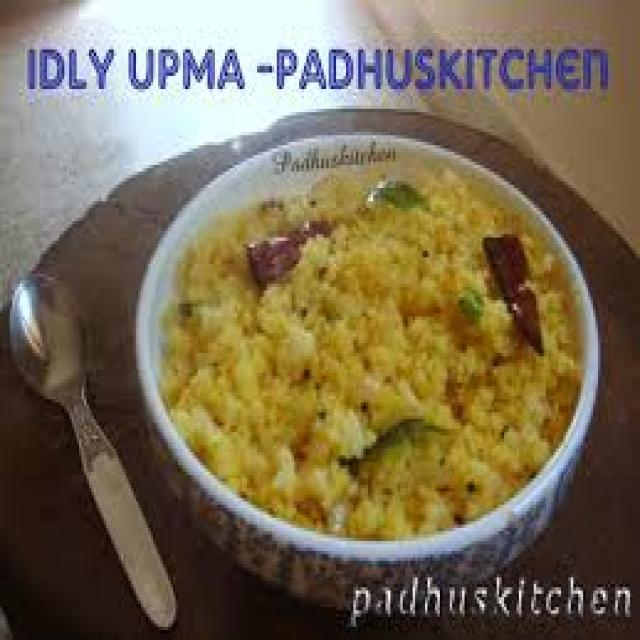UPMA: (162, 164, 577, 540)
